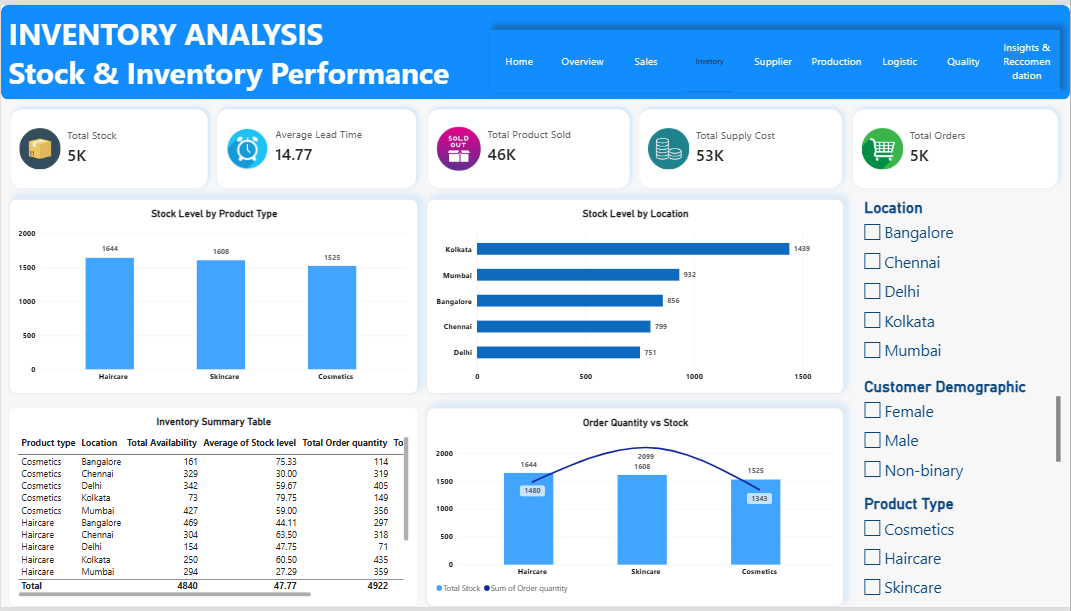

What the dashboard file says about the page in this screenshot:
{"tool":"powerbi","page":{"name":"Invetory","canvas":[1920,1080],"ordinal":3},"visuals":[{"type":"shape","title":"SALES PERFORMANCE                    [Product Type ▼]       │ │ Revenue & Sales Analysis    ","box":[0,0,1920.4,169.7],"z":0},{"type":"textbox","box":[14.5,14.5,852.4,155.6],"z":1000},{"type":"slicer","fields":{"Values":["supply_chain_data.Product type"]},"box":[1543.4,880.3,377,199.3],"z":2000},{"type":"slicer","fields":{"Values":["supply_chain_data.Customer demographic"]},"box":[1543.4,669.1,361.2,191.4],"z":3000},{"type":"slicer","fields":{"Values":["supply_chain_data.Location"]},"box":[1543.4,347.4,359.2,300],"z":4000},{"type":"cardVisual","fields":{"Data":["Measures (2).Total Orders"]},"box":[1513.8,169.7,402.6,175.7],"z":5000},{"type":"cardVisual","fields":{"Data":["Measures (2).Total Supply Cost"]},"box":[1129,169.7,398.7,175.7],"z":6000},{"type":"cardVisual","fields":{"Data":["Measures (2).Total Product Sold"]},"box":[750,169.7,396.7,175.7],"z":7000},{"type":"cardVisual","fields":{"Data":["Measures (2).Average Lead Time"]},"box":[371.1,169.7,392.8,175.7],"z":8000},{"type":"lineStackedColumnComboChart","title":"Stock Level by Product Type","fields":{"Category":["supply_chain_data.Product type"],"Y":["Measures (2).Total Stock"]},"box":[13.8,347.4,736.2,351.3],"z":9000},{"type":"clusteredBarChart","title":"Stock Level by Location","fields":{"Category":["supply_chain_data.Location"],"Y":["Measures (2).Total Stock"]},"box":[763.8,347.4,750,351.3],"z":10000},{"type":"lineClusteredColumnComboChart","title":"Order Quantity vs Stock","fields":{"Category":["supply_chain_data.Product type"],"Y":["Measures (2).Total Stock"],"Y2":["Sum(supply_chain_data.Order quantitie)"]},"box":[763.8,722.4,750,357.2],"z":11000},{"type":"tableEx","title":"Inventory Summary Table","fields":{"Values":["supply_chain_data.Product type","supply_chain_data.Location","Sum(supply_chain_data.Availability)","Avg(supply_chain_data.Stock level)","Sum(supply_chain_data.Order quantity)","Sum(supply_chain_data.Number of products sold)"]},"box":[13.8,722.4,736.2,357.2],"z":12000},{"type":"cardVisual","fields":{"Data":["Measures (2).Total Stock"]},"box":[0,169.7,388.8,175.7],"z":13000},{"type":"pageNavigator","box":[878,44.9,1024,112.3],"z":14000}]}

Visuals, with their boxes in screenshot pixels (x1, y1, x2, y2), scaled from the page's 1920x1080 canvas onto the 1071x611 screenshot:
"SALES PERFORMANCE                    [Product Type ▼]       │ │ Revenue & Sales Analysis    " shape: <bbox>0, 0, 1070, 96</bbox>
textbox: <bbox>8, 8, 484, 96</bbox>
slicer - supply_chain_data.Product type: <bbox>861, 498, 1070, 610</bbox>
slicer - supply_chain_data.Customer demographic: <bbox>861, 379, 1062, 487</bbox>
slicer - supply_chain_data.Location: <bbox>861, 197, 1061, 366</bbox>
cardVisual - Measures (2).Total Orders: <bbox>844, 96, 1069, 195</bbox>
cardVisual - Measures (2).Total Supply Cost: <bbox>630, 96, 852, 195</bbox>
cardVisual - Measures (2).Total Product Sold: <bbox>418, 96, 640, 195</bbox>
cardVisual - Measures (2).Average Lead Time: <bbox>207, 96, 426, 195</bbox>
"Stock Level by Product Type" lineStackedColumnComboChart: <bbox>8, 197, 418, 395</bbox>
"Stock Level by Location" clusteredBarChart: <bbox>426, 197, 844, 395</bbox>
"Order Quantity vs Stock" lineClusteredColumnComboChart: <bbox>426, 409, 844, 610</bbox>
"Inventory Summary Table" tableEx: <bbox>8, 409, 418, 610</bbox>
cardVisual - Measures (2).Total Stock: <bbox>0, 96, 217, 195</bbox>
pageNavigator: <bbox>490, 25, 1061, 89</bbox>
